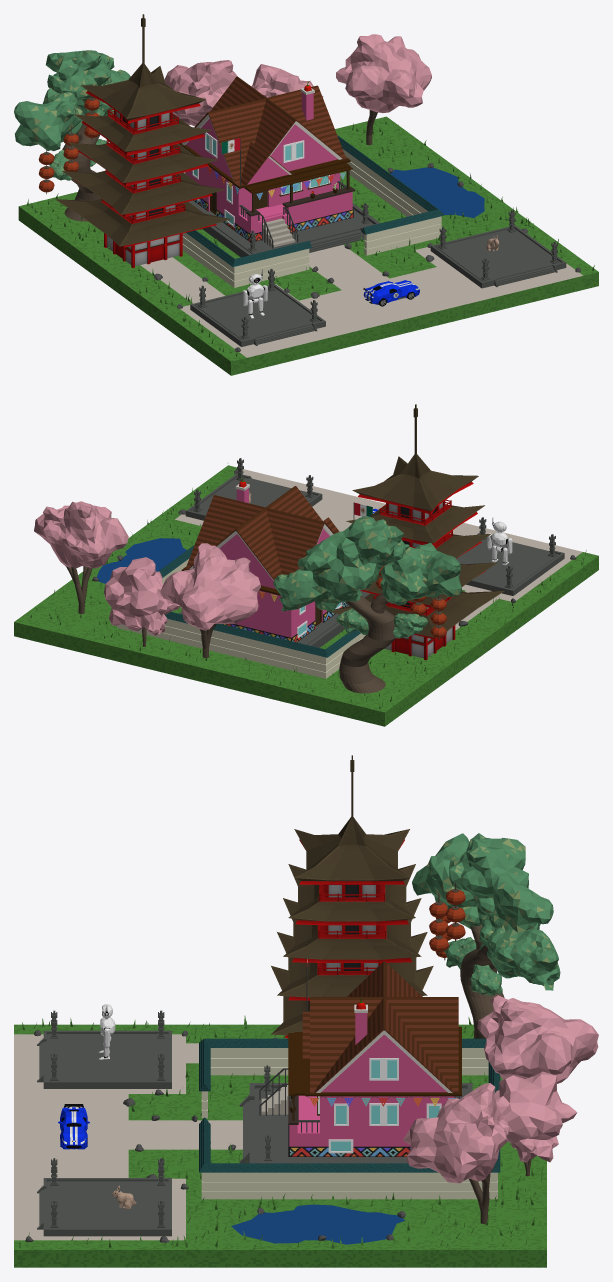
3 views of the same model, one above another, from view 1: azimuth 30°, elevation 25°; view 2: azimuth 150°, elevation 25°; view 3: azimuth 270°, elevation 25° (orthographic). The views are drawn at different scales.
Parts seen in each view (by area): view 1: Cube.005, Cube.1005, VEHICLES_RACING_CAR, OBJRANDOM_PLATZEEBOT; view 2: Cube.005, Cube.1005, OBJRANDOM_PLATZEEBOT; view 3: Cube.005, Cube.1005, VEHICLES_RACING_CAR.
Part boxes in pixels (x1,y1,x2,y2): Cube.005: (14,14,598,375); Cube.1005: (179,76,355,248); VEHICLES_RACING_CAR: (363,280,419,306); OBJRANDOM_PLATZEEBOT: (243,269,267,318); Cube.005: (14,404,598,726); Cube.1005: (181,476,372,642); OBJRANDOM_PLATZEEBOT: (487,517,512,565); Cube.005: (14,755,598,1267); Cube.1005: (259,956,461,1156); VEHICLES_RACING_CAR: (58,1104,89,1149).
Size of the model in its own units: 4528 by 2668 by 4389.
Materials: 79 (7 with a texture image).
